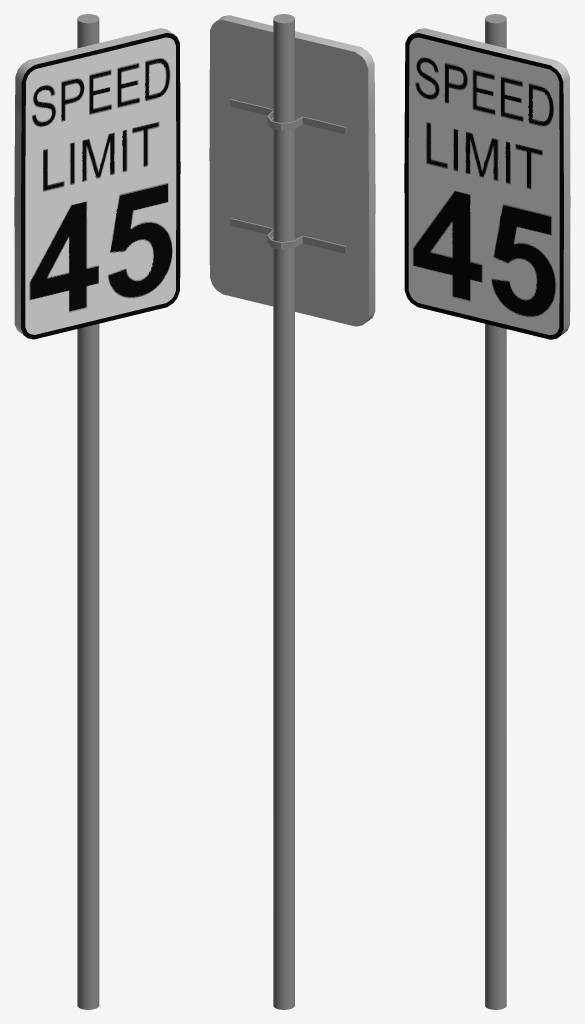
The model's file is SpeedLimit45.fbx.
The picture shows the model from 3 angles, left to right: view 1: azimuth 30°, elevation 25°; view 2: azimuth 150°, elevation 25°; view 3: azimuth 330°, elevation 25°; orthographic projection.
Visible parts, largest first — view 1: NGon001.002; view 2: NGon001.002; view 3: NGon001.002.
Boxes of the visible parts, <box> form: NGon001.002: <box>14,14,180,1009</box>; NGon001.002: <box>209,14,375,1009</box>; NGon001.002: <box>404,14,570,1009</box>.
Bounding box in the file's own units: 50.08 × 296 × 10.89.
